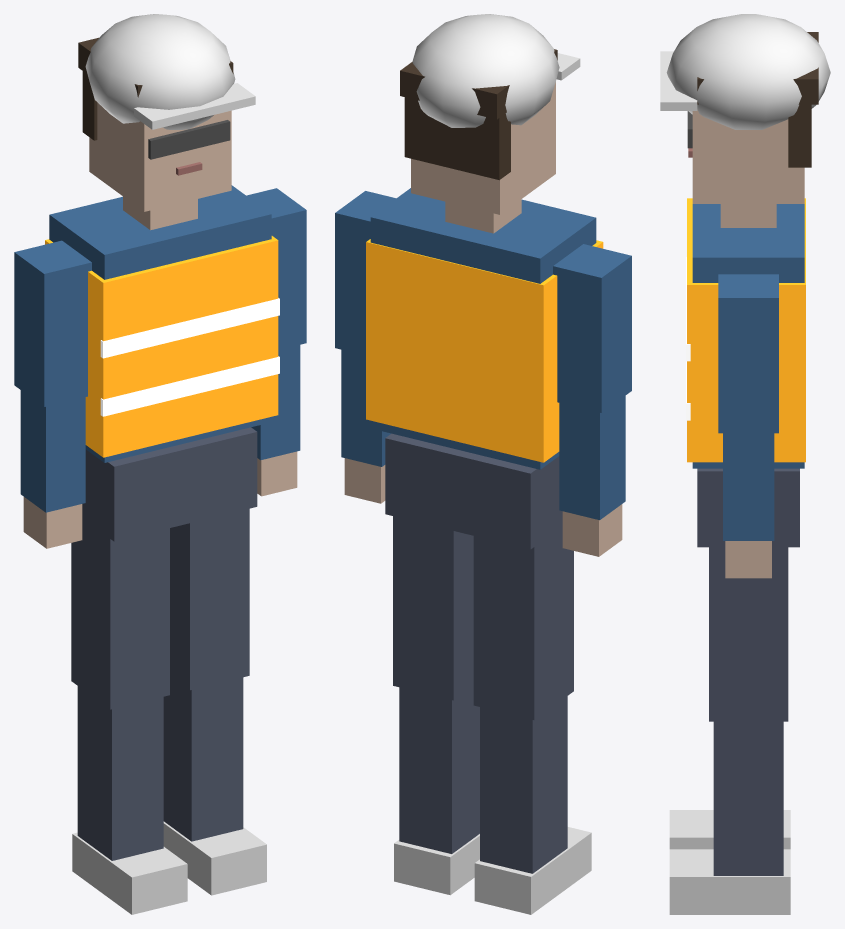
The model's file is characters.glb.
The picture shows the model from 3 angles, left to right: view 1: azimuth 30°, elevation 25°; view 2: azimuth 150°, elevation 25°; view 3: azimuth 270°, elevation 25°; orthographic projection.
Visible parts, largest first — view 1: worker_torso, player_shin_R, player_shin_L, player_leg_R, worker_head, player_hips, player_torso, player_leg_L, player_arm_R, player_head, player_fore_R, player_arm_L (+1 smaller); view 2: worker_torso, player_shin_R, player_leg_R, player_shin_L, player_torso, player_hips, player_head, player_leg_L, worker_head, player_arm_R, player_fore_R, player_arm_L (+1 smaller); view 3: player_shin_L, worker_head, player_leg_L, worker_torso, player_head, player_arm_L, player_torso, player_fore_L, player_hips, player_shin_R.
Part boxes in pixels (bbox=[...]): worker_torso: bbox=[45, 236, 279, 457]; player_shin_R: bbox=[72, 686, 187, 914]; player_shin_L: bbox=[163, 676, 266, 895]; player_leg_R: bbox=[71, 518, 169, 709]; worker_head: bbox=[85, 14, 255, 159]; player_hips: bbox=[82, 427, 257, 541]; player_torso: bbox=[49, 185, 271, 462]; player_leg_L: bbox=[170, 508, 249, 690]; player_arm_R: bbox=[14, 240, 91, 406]; player_head: bbox=[78, 37, 233, 211]; player_fore_R: bbox=[20, 390, 85, 548]; player_arm_L: bbox=[246, 188, 306, 349]; worker_torso: bbox=[366, 239, 603, 462]; player_shin_R: bbox=[474, 696, 591, 914]; player_leg_R: bbox=[473, 526, 573, 720]; player_shin_L: bbox=[394, 686, 479, 895]; player_torso: bbox=[370, 188, 596, 469]; player_hips: bbox=[385, 433, 562, 549]; player_head: bbox=[400, 49, 557, 214]; player_leg_L: bbox=[393, 516, 473, 700]; worker_head: bbox=[412, 14, 580, 127]; player_arm_R: bbox=[553, 244, 631, 412]; player_fore_R: bbox=[559, 396, 625, 556]; player_arm_L: bbox=[335, 191, 395, 355]; player_shin_L: bbox=[669, 721, 790, 914]; worker_head: bbox=[660, 14, 830, 148]; player_leg_L: bbox=[709, 547, 788, 721]; worker_torso: bbox=[686, 198, 805, 462]; player_head: bbox=[688, 32, 818, 203]; player_arm_L: bbox=[718, 274, 778, 433]; player_torso: bbox=[692, 204, 804, 468]; player_fore_L: bbox=[723, 433, 774, 578]; player_hips: bbox=[697, 468, 799, 547]; player_shin_R: bbox=[669, 810, 790, 849].
Bounding box in the file's own units: 0.66 × 2.03 × 0.366.
